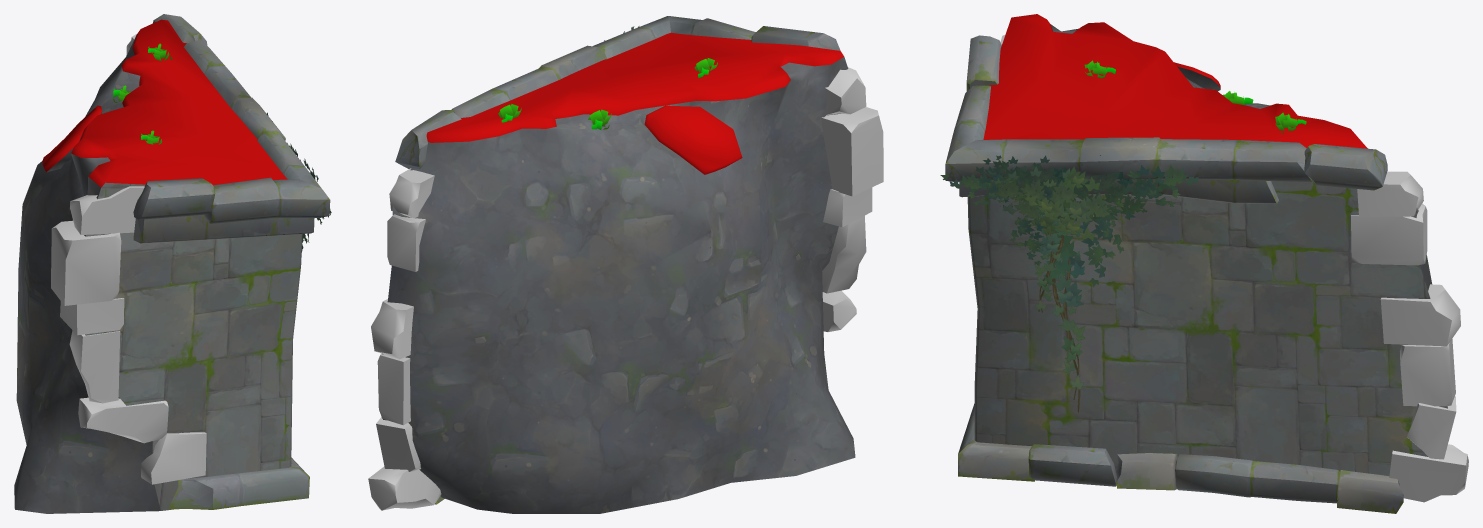
The model's file is Area_MdBuild_SdPlatform11_02_Group.fbx.
3 renders of one model, left to right at view 1: azimuth 30°, elevation 25°; view 2: azimuth 150°, elevation 25°; view 3: azimuth 270°, elevation 25°, orthographic. The views are drawn at different scales.
Parts seen in each view (by area): view 1: Area_MdBuild_SdPlatform11_02_Lod0; view 2: Area_MdBuild_SdPlatform11_02_Lod0; view 3: Area_MdBuild_SdPlatform11_02_Lod0, Stages_LYLvy07_Vo (1).
Boxes of the visible parts, box(x1,y1,x2,y2) form: Area_MdBuild_SdPlatform11_02_Lod0: box(14, 14, 330, 513); Area_MdBuild_SdPlatform11_02_Lod0: box(368, 16, 883, 513); Area_MdBuild_SdPlatform11_02_Lod0: box(945, 14, 1468, 513); Stages_LYLvy07_Vo (1): box(940, 155, 1198, 412).
Bounding box in the file's own units: 9.49 × 10.79 × 14.29.
